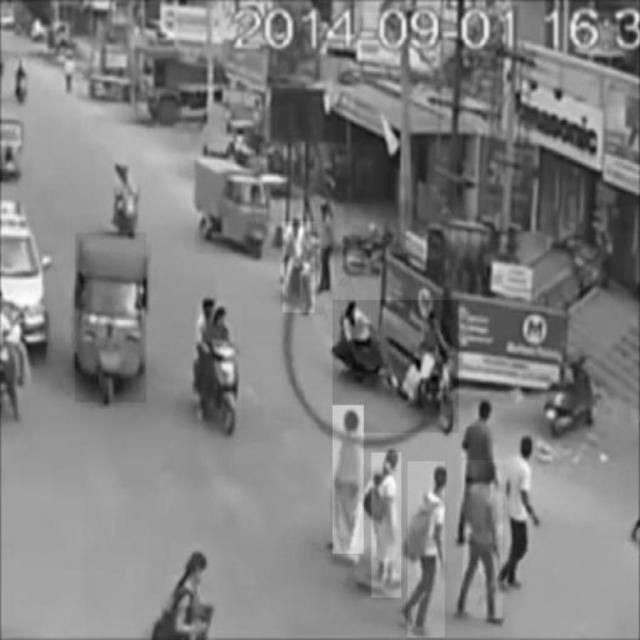accident: (333, 300, 459, 432)
person: (407, 462, 445, 638), (463, 460, 503, 618), (333, 405, 363, 553), (371, 452, 401, 598)
vehicle: (76, 232, 147, 402), (195, 161, 263, 254), (197, 302, 242, 436), (283, 221, 315, 312)
